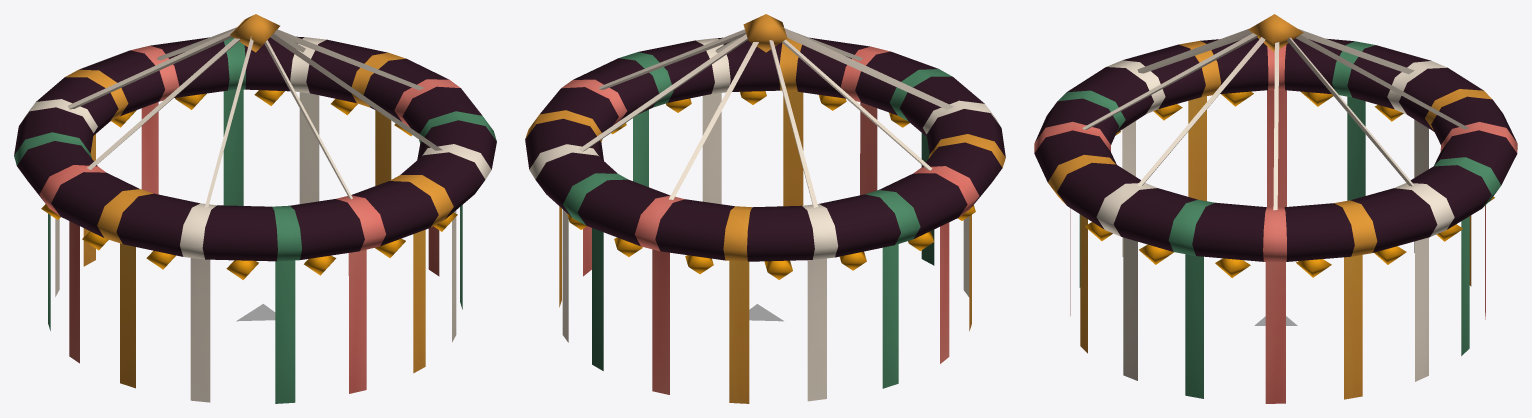
File: Lamp_Art.fbx
3 views of the same model, side by side, from view 1: azimuth 30°, elevation 25°; view 2: azimuth 150°, elevation 25°; view 3: azimuth 270°, elevation 25° (orthographic).
Parts seen in each view (by area): view 1: Oktoberfest_Lamp; view 2: Oktoberfest_Lamp; view 3: Oktoberfest_Lamp.
Part boxes in pixels (x1,y1,x2,y2): Oktoberfest_Lamp: (14,14,496,403); Oktoberfest_Lamp: (525,14,1005,403); Oktoberfest_Lamp: (1034,14,1517,403).
Bounding box in the file's own units: 720 × 498 × 720.
